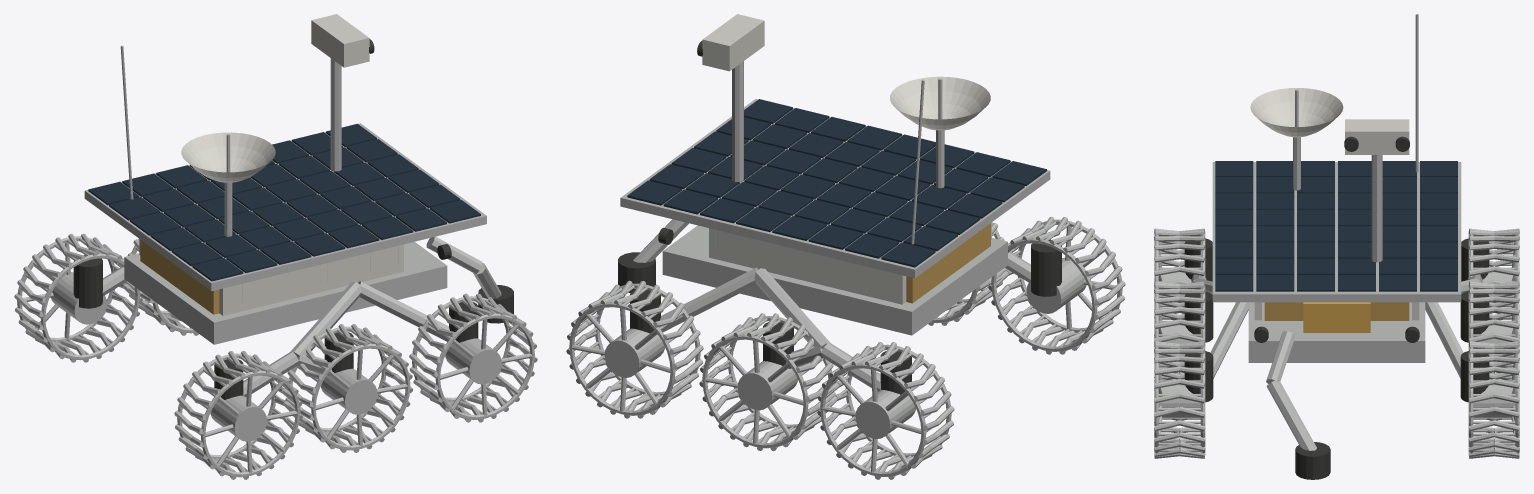
File: science-rover-gold.glb
3 renders of one model, left to right at view 1: azimuth 30°, elevation 25°; view 2: azimuth 150°, elevation 25°; view 3: azimuth 270°, elevation 25°, orthographic. The views are drawn at different scales.
Parts seen in each view (by area): view 1: Rover body • science instruments.001, wheel_-1_0.001, wheel_-1_-0.001, wheel_-1_-0.002, wheel_1_-0.001, wheel_1_-0.002; view 2: Rover body • science instruments.001, wheel_1_0.001, wheel_1_-0.001, wheel_1_-0.002, wheel_-1_-0.001, wheel_-1_-0.002; view 3: Rover body • science instruments.001, wheel_1_0.001, wheel_-1_0.001, wheel_1_-0.002, wheel_-1_-0.002, wheel_1_-0.001, wheel_-1_-0.001.
Part boxes in pixels (x1,y1,x2,y2): Rover body • science instruments.001: (73,14,513,399); wheel_-1_0.001: (409,293,537,422); wheel_-1_-0.001: (174,351,302,479); wheel_-1_-0.002: (285,324,412,452); wheel_1_-0.001: (14,233,142,362); wheel_1_-0.002: (125,239,198,335); Rover body • science instruments.001: (618,14,1061,394); wheel_1_0.001: (566,280,703,418); wheel_1_-0.001: (817,342,954,479); wheel_1_-0.002: (699,313,835,451); wheel_-1_-0.001: (988,216,1125,354); wheel_-1_-0.002: (928,222,1006,325); Rover body • science instruments.001: (1184,14,1489,479); wheel_1_0.001: (1468,341,1519,458); wheel_-1_0.001: (1154,341,1205,458); wheel_1_-0.002: (1468,281,1519,390); wheel_-1_-0.002: (1154,281,1205,390); wheel_1_-0.001: (1468,228,1519,337); wheel_-1_-0.001: (1154,228,1205,337).
Size of the model in its own units: 2.78 by 2.26 by 2.28.
